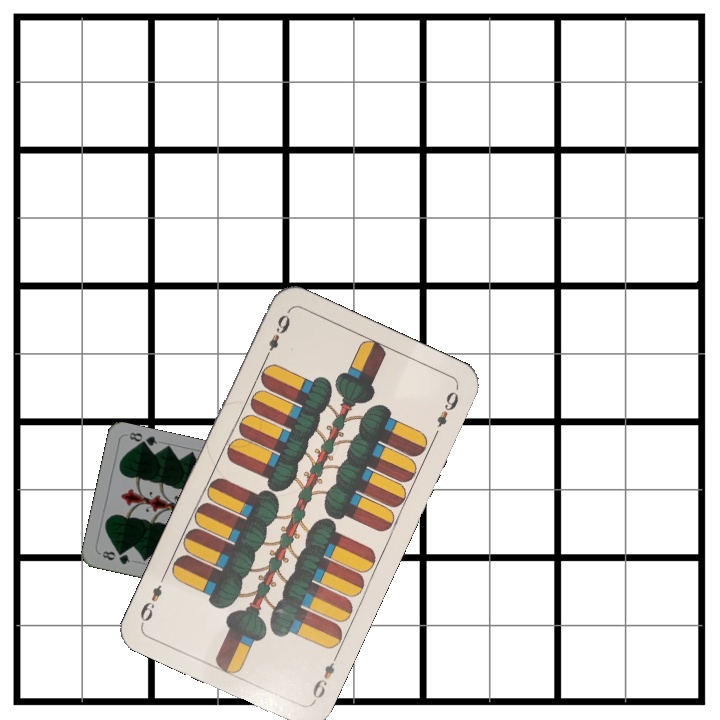E9: (260, 308, 293, 364), (308, 650, 341, 705)
G8: (98, 547, 133, 567)
